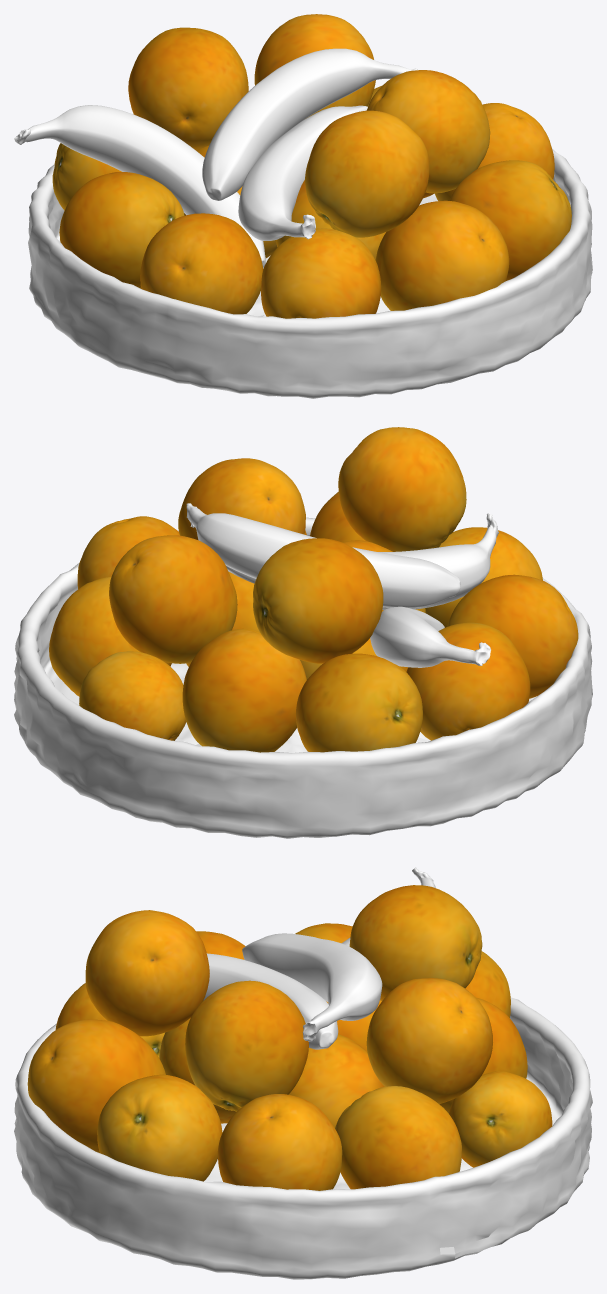
File: CyTokry_Oranges 2.fbx
The picture shows the model from 3 angles, top to bottom: view 1: azimuth 30°, elevation 25°; view 2: azimuth 150°, elevation 25°; view 3: azimuth 270°, elevation 25°; orthographic projection. The views are drawn at different scales.
Visible parts, largest first — view 1: CyTokry; view 2: CyTokry; view 3: CyTokry.
Part boxes in pixels (bbox=[...]): CyTokry: bbox=[14, 14, 592, 398]; CyTokry: bbox=[14, 427, 592, 838]; CyTokry: bbox=[14, 867, 592, 1279].
Bounding box in the file's own units: 12.28 × 12.23 × 5.51.
